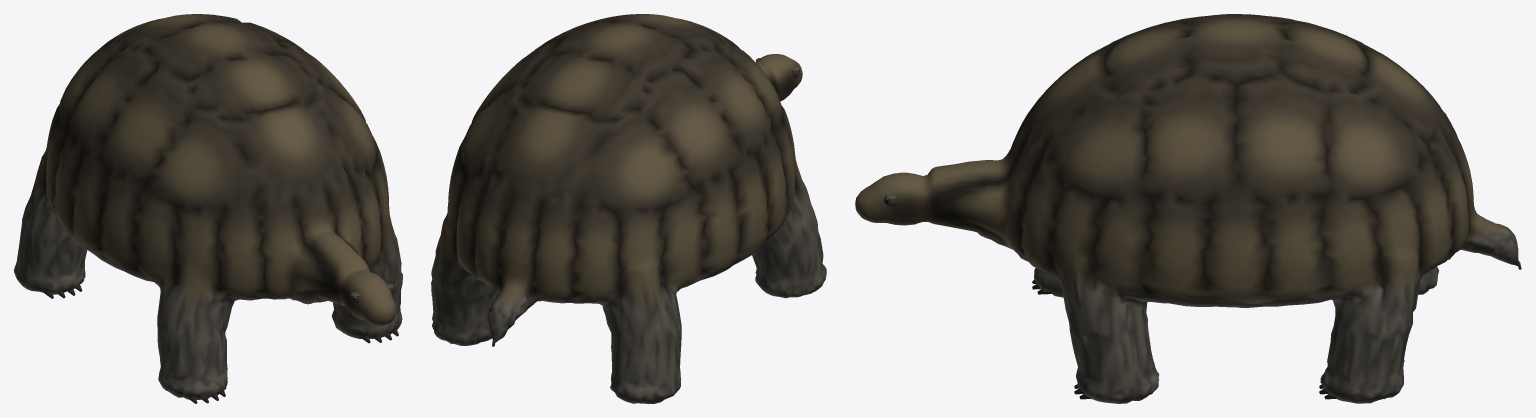
File: MegalochelysAtlas.fbx
3 renders of one model, left to right at view 1: azimuth 30°, elevation 25°; view 2: azimuth 150°, elevation 25°; view 3: azimuth 270°, elevation 25°, orthographic. The views are drawn at different scales.
Visible parts, largest first — view 1: MegalochelysAtlas; view 2: MegalochelysAtlas; view 3: MegalochelysAtlas.
Boxes of the visible parts, x1=… form: MegalochelysAtlas: x1=14, y1=14, x2=402, y2=403; MegalochelysAtlas: x1=431, y1=14, x2=826, y2=403; MegalochelysAtlas: x1=855, y1=14, x2=1521, y2=403.
Size of the model in its own units: 0.9196 by 0.9097 by 1.74.
